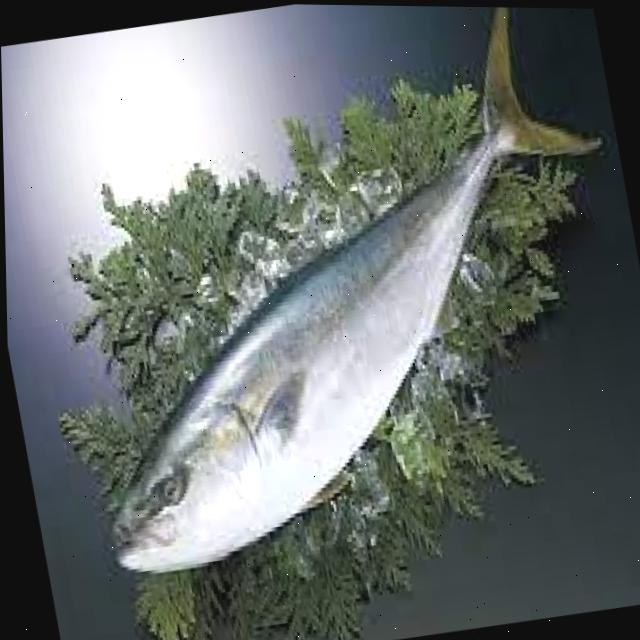Kingfish: (12, 0, 640, 603)
